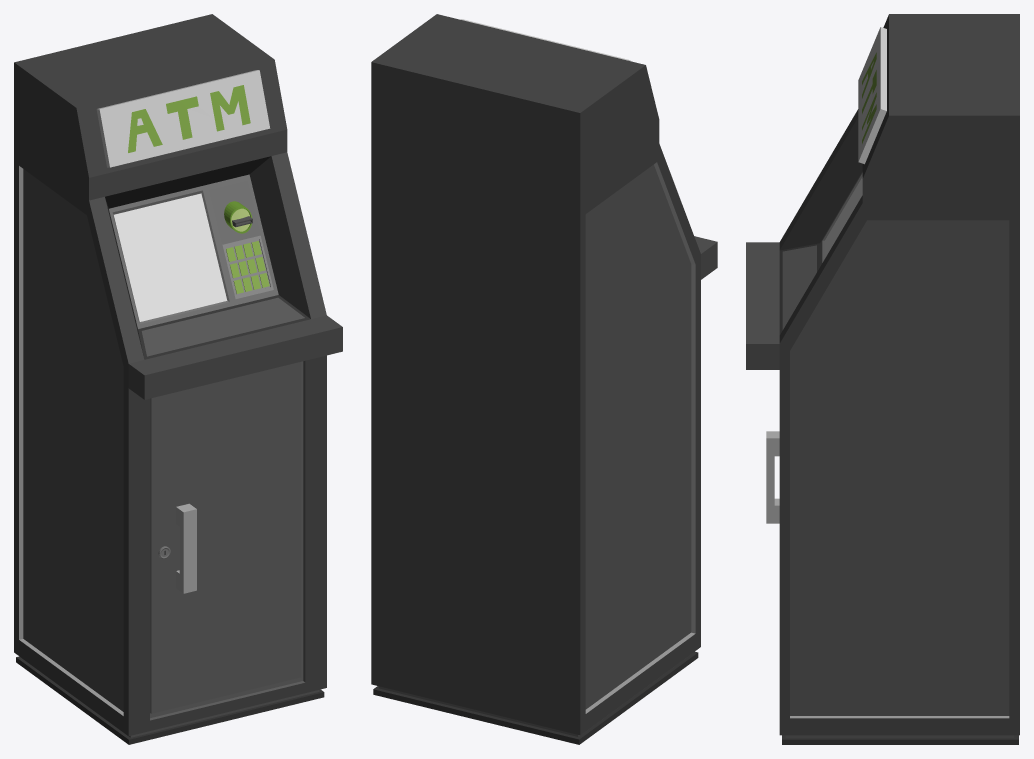
Rendered from ATM #2.fbx.
The picture shows the model from 3 angles, left to right: view 1: azimuth 30°, elevation 25°; view 2: azimuth 150°, elevation 25°; view 3: azimuth 270°, elevation 25°; orthographic projection. The views are drawn at different scales.
Visible parts, largest first — view 1: ATM Old; view 2: ATM Old; view 3: ATM Old.
Part boxes in pixels (x1=…): ATM Old: x1=14, y1=14, x2=342, y2=744; ATM Old: x1=371, y1=14, x2=717, y2=744; ATM Old: x1=746, y1=14, x2=1019, y2=744.
Size of the model in its own units: 56.26 by 163 by 64.09.
Materials: 2 (2 with a texture image).
